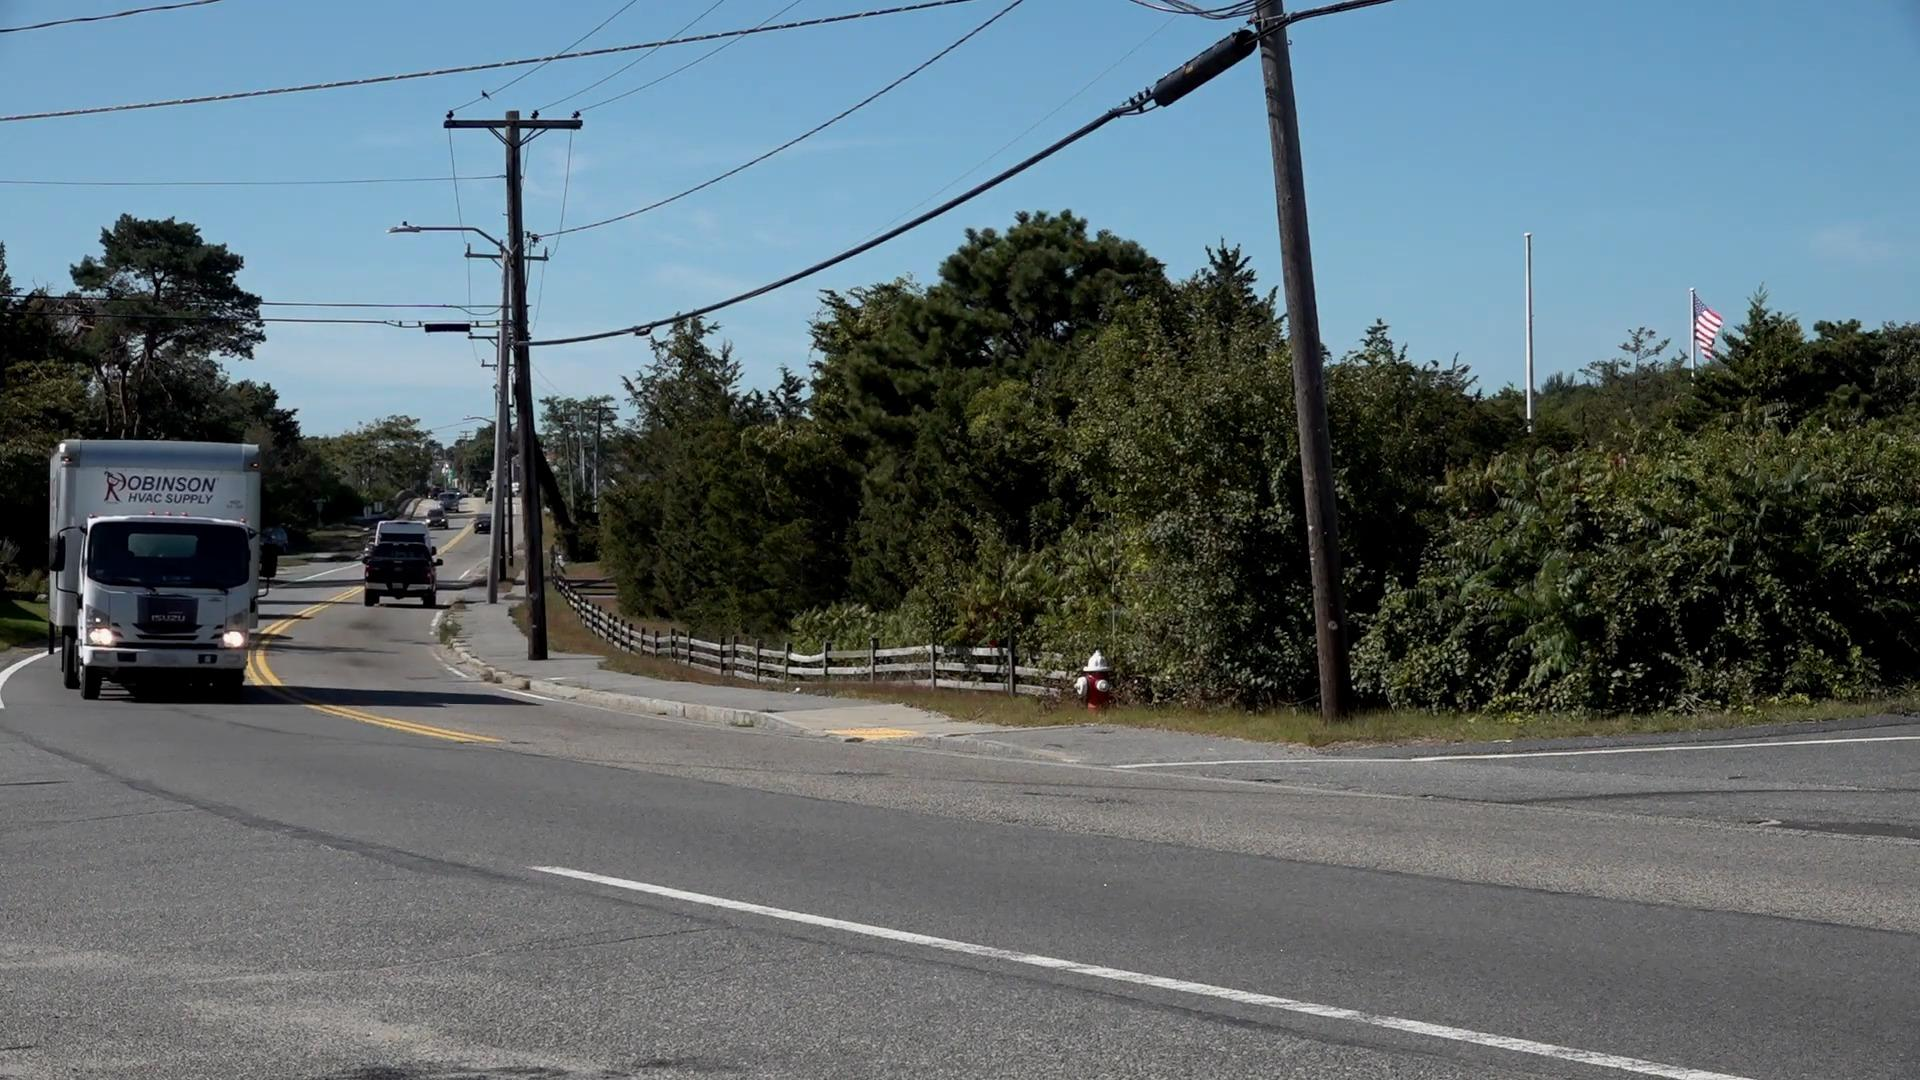pickup: (360, 541, 443, 604)
truck: (44, 439, 266, 701)
